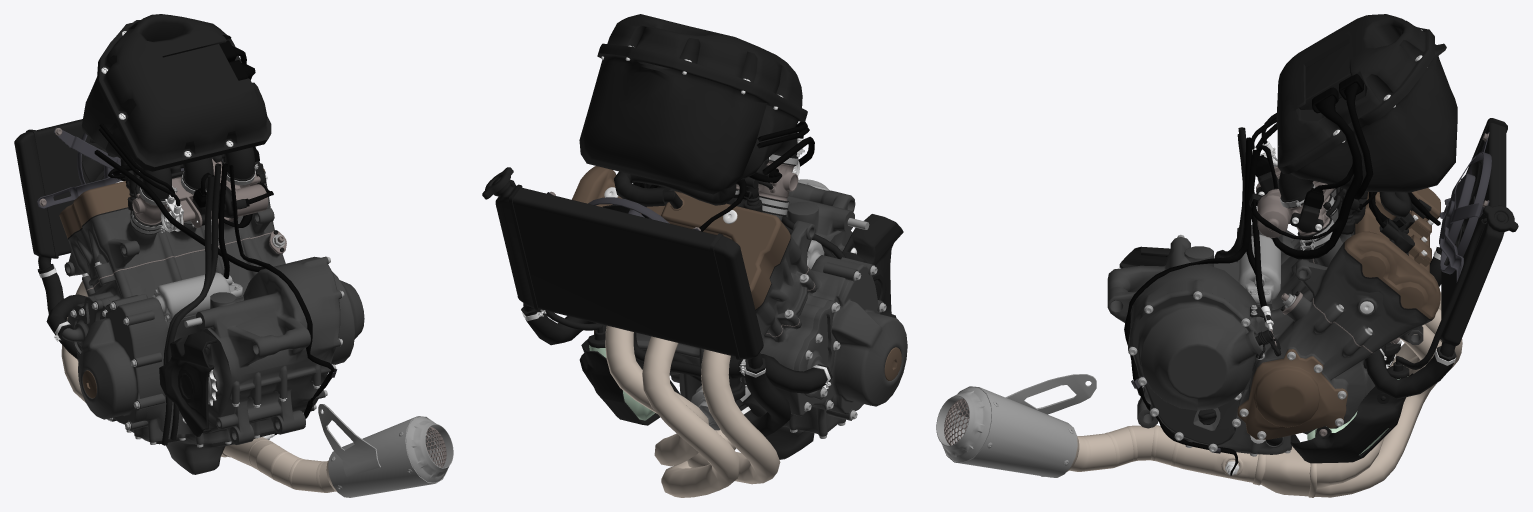
The model's file is moto_engine.fbx.
3 views of the same model, side by side, from view 1: azimuth 30°, elevation 25°; view 2: azimuth 150°, elevation 25°; view 3: azimuth 270°, elevation 25° (orthographic). The views are drawn at different scales.
Visible parts, largest first — view 1: crank case, airbox, stator cover, cylinders, raditator, exhaust barrel, headers and pipe, sprocket cover, overflows, ecu, clutch cover, throttle bodies (+13 smaller); view 2: airbox, raditator, headers and pipe, stator cover, crank case, valve cover, radiator hoses, cylinders, sprocket cover, breather, coolant bottle guard, water pump cover (+13 smaller); view 3: airbox, crank case, clutch cover, headers and pipe, exhaust barrel, cylinders, timing cover, harness, valve cover, raditator, coolant bottle guard, radiator fan (+15 smaller).
Part boxes in pixels (left/top/right/bottom): crank case: left=86, top=234, right=335, bottom=444; airbox: left=82, top=14, right=271, bottom=201; stator cover: left=77, top=294, right=152, bottom=430; cylinders: left=64, top=172, right=274, bottom=290; raditator: left=14, top=119, right=223, bottom=269; exhaust barrel: left=318, top=404, right=447, bottom=497; headers and pipe: left=61, top=281, right=337, bottom=492; sprocket cover: left=159, top=331, right=216, bottom=436; overflows: left=161, top=163, right=221, bottom=445; ecu: left=163, top=44, right=238, bottom=93; clutch cover: left=311, top=256, right=364, bottom=411; throttle bodies: left=132, top=159, right=268, bottom=228; airbox: left=579, top=14, right=807, bottom=194; raditator: left=494, top=179, right=763, bottom=368; headers and pipe: left=605, top=325, right=780, bottom=497; stator cover: left=785, top=261, right=907, bottom=420; crank case: left=596, top=182, right=858, bottom=432; valve cover: left=572, top=166, right=790, bottom=309; radiator hoses: left=521, top=307, right=832, bottom=436; cylinders: left=616, top=174, right=815, bottom=343; sprocket cover: left=842, top=214, right=903, bottom=317; breather: left=614, top=171, right=736, bottom=206; coolant bottle guard: left=579, top=339, right=659, bottom=425; water pump cover: left=793, top=300, right=836, bottom=399; airbox: left=1276, top=14, right=1457, bottom=208; crank case: left=1107, top=230, right=1375, bottom=450; clutch cover: left=1128, top=288, right=1264, bottom=447; headers and pipe: left=1066, top=291, right=1462, bottom=497; exhaust barrel: left=943, top=374, right=1096, bottom=477; cylinders: left=1295, top=189, right=1430, bottom=352; timing cover: left=1237, top=349, right=1347, bottom=439; harness: left=1250, top=73, right=1440, bottom=259; valve cover: left=1344, top=188, right=1440, bottom=319; raditator: left=1439, top=118, right=1507, bottom=356; coolant bottle guard: left=1290, top=373, right=1413, bottom=463; radiator fan: left=1439, top=132, right=1491, bottom=282.
Size of the model in its own units: 48.12 by 79.48 by 90.61.
